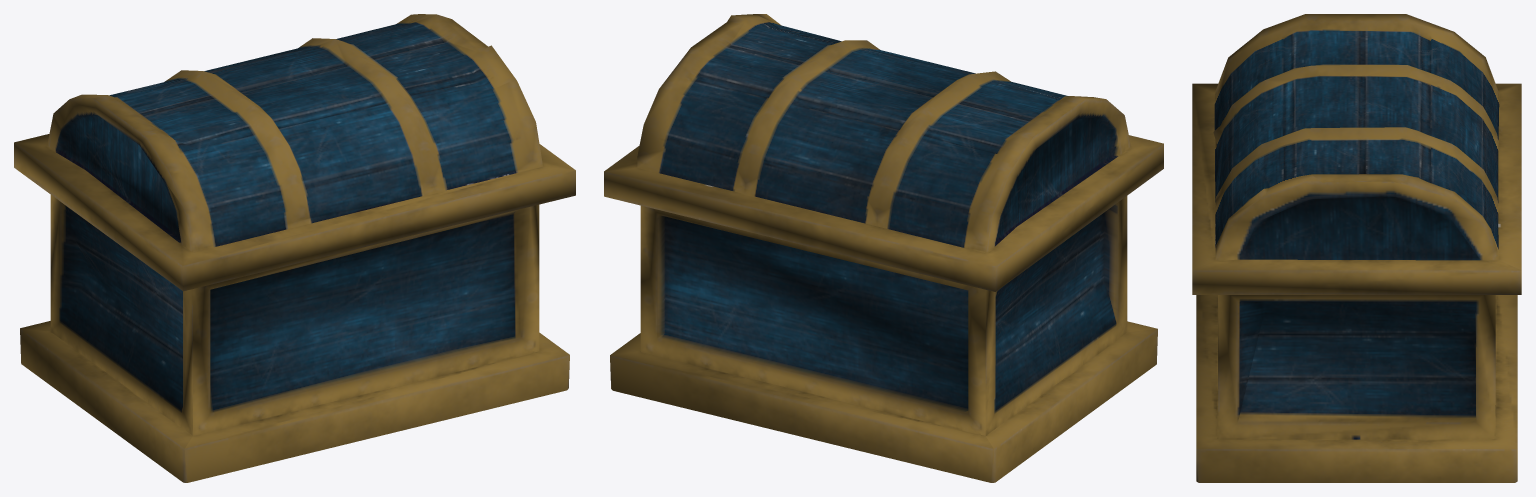
File: a treasure chest low_uv.FBX
The picture shows the model from 3 angles, left to right: view 1: azimuth 30°, elevation 25°; view 2: azimuth 150°, elevation 25°; view 3: azimuth 270°, elevation 25°; orthographic projection. The views are drawn at different scales.
Visible parts, largest first — view 1: Group3931; view 2: Group3931; view 3: Group3931.
Part boxes in pixels (x1,y1,x2,y2): Group3931: (14, 14, 575, 482); Group3931: (604, 14, 1163, 482); Group3931: (1192, 14, 1521, 482).
Bounding box in the file's own units: 1243 × 920 × 927.
Materials: 1 (1 with a texture image).
